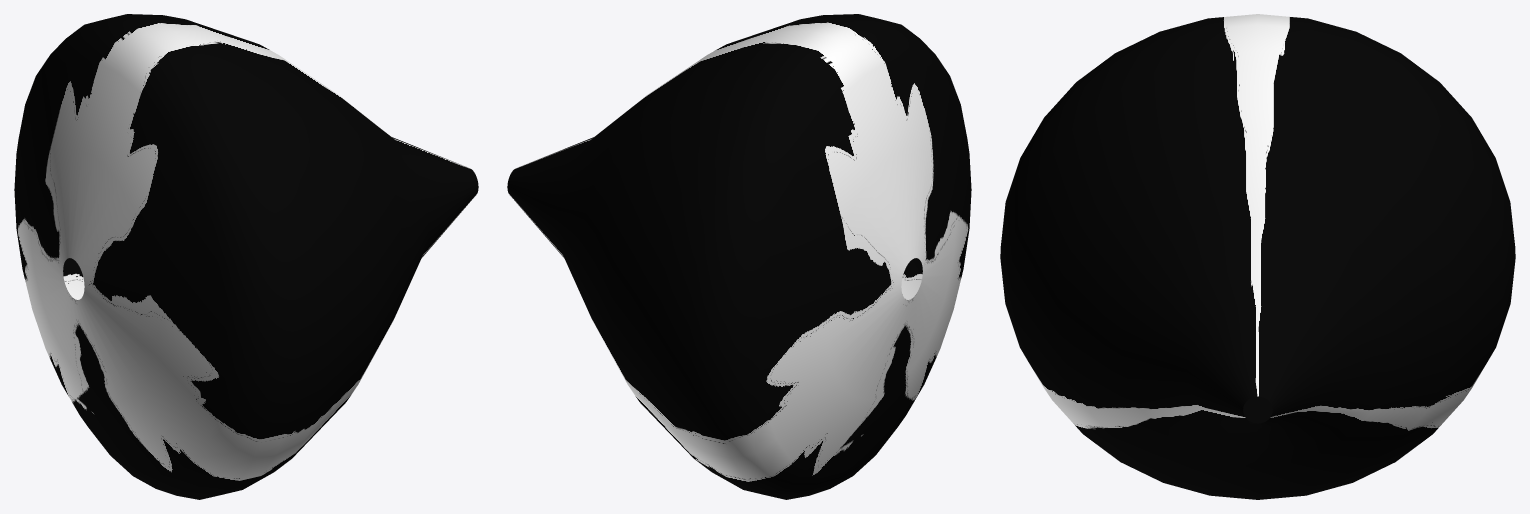
File: Goutte.fbx
The picture shows the model from 3 angles, left to right: view 1: azimuth 30°, elevation 25°; view 2: azimuth 150°, elevation 25°; view 3: azimuth 270°, elevation 25°; orthographic projection. The views are drawn at different scales.
Visible parts, largest first — view 1: Goutte; view 2: Goutte; view 3: Goutte.
Boxes of the visible parts, x1=… form: Goutte: x1=14, y1=14, x2=478, y2=499; Goutte: x1=507, y1=14, x2=971, y2=499; Goutte: x1=1000, y1=14, x2=1515, y2=499.
Size of the model in its own units: 178 by 191 by 191.
1 material, 1 textured.
